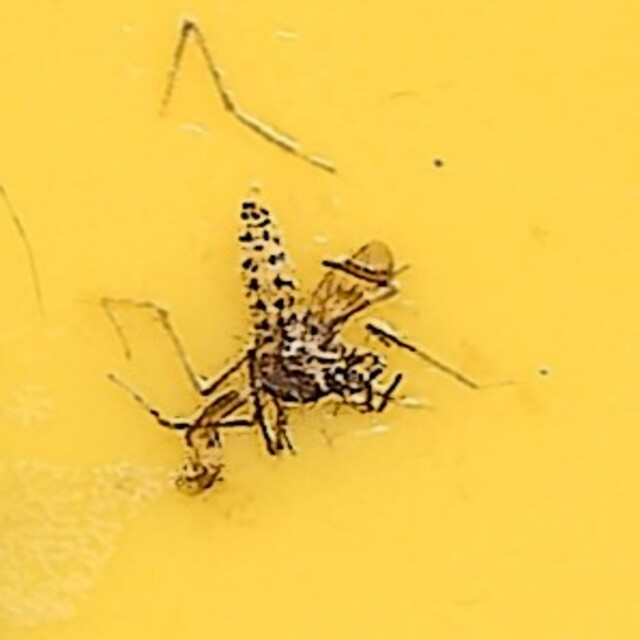Nematocera: (215, 185, 425, 455)
